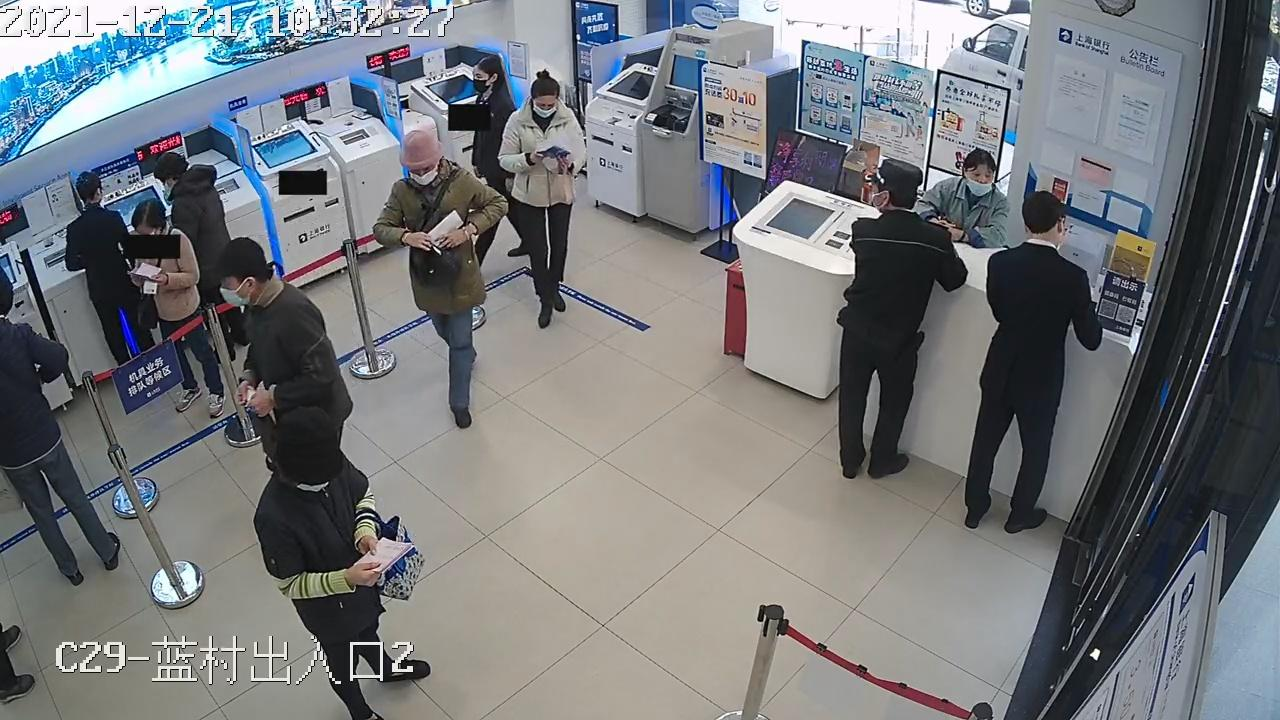person: (251, 408, 428, 720), (964, 190, 1107, 534), (836, 160, 967, 478), (375, 122, 504, 430), (0, 282, 121, 585), (210, 240, 355, 468), (129, 197, 229, 416), (501, 73, 586, 327), (63, 171, 160, 366), (467, 56, 535, 281), (471, 58, 520, 276), (920, 150, 1012, 249), (0, 451, 27, 705), (0, 244, 15, 318)
